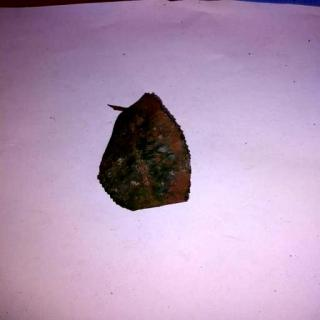Anthracnose: (101, 91, 193, 213)
